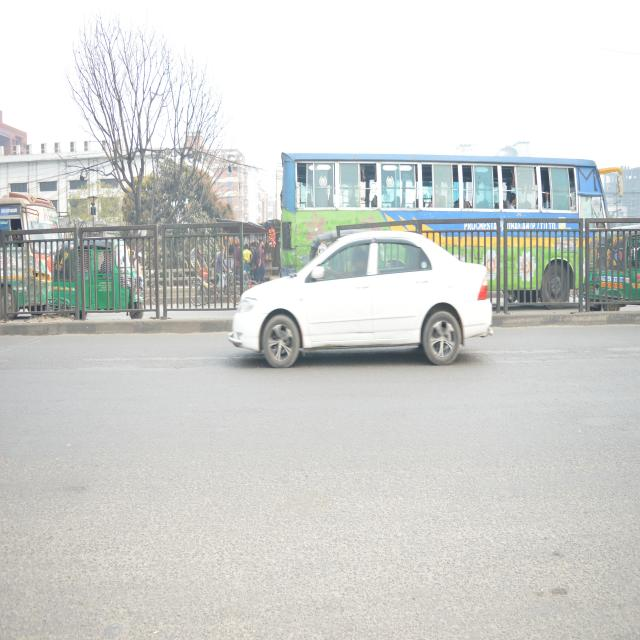bus: (268, 137, 617, 338), (0, 171, 81, 318)
car: (214, 222, 500, 388)
